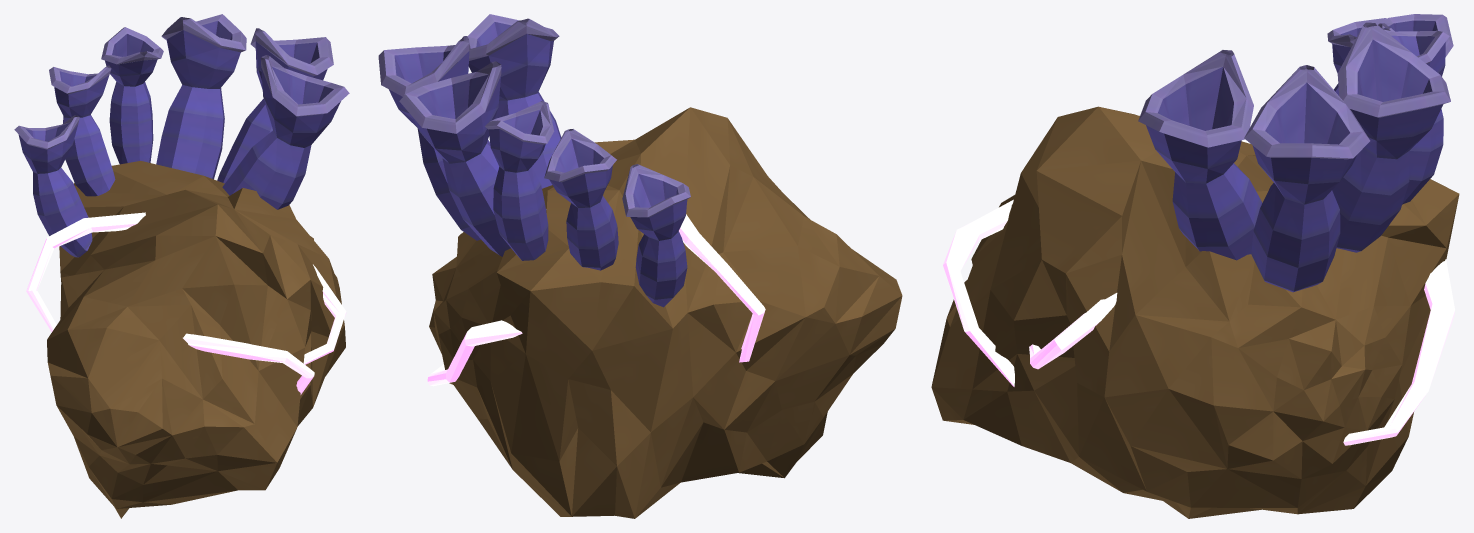
File: Meteorite3.fbx
3 views of the same model, side by side, from view 1: azimuth 30°, elevation 25°; view 2: azimuth 150°, elevation 25°; view 3: azimuth 270°, elevation 25° (orthographic). The views are drawn at different scales.
Visible parts, largest first — view 1: Sphere.004, Cylinder.012; view 2: Sphere.004, Cylinder.012; view 3: Sphere.004, Cylinder.012.
Part boxes in pixels (left/top/right/bottom): Sphere.004: left=47, top=161, right=345, bottom=518; Cylinder.012: left=14, top=14, right=349, bottom=394; Sphere.004: left=429, top=107, right=902, bottom=518; Cylinder.012: left=378, top=14, right=765, bottom=386; Sphere.004: left=931, top=106, right=1459, bottom=518; Cylinder.012: left=943, top=14, right=1454, bottom=445.
Size of the model in its own units: 1.43 by 1.53 by 1.4.
